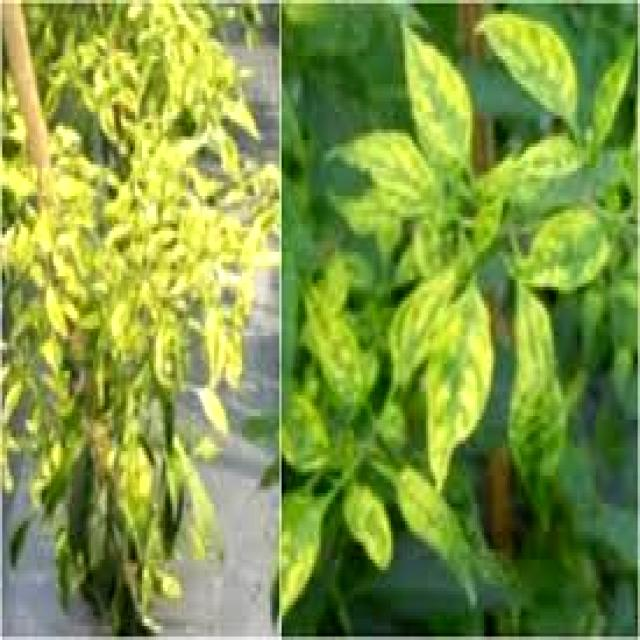yellowish leaf: (304, 19, 630, 601), (4, 45, 272, 614)
